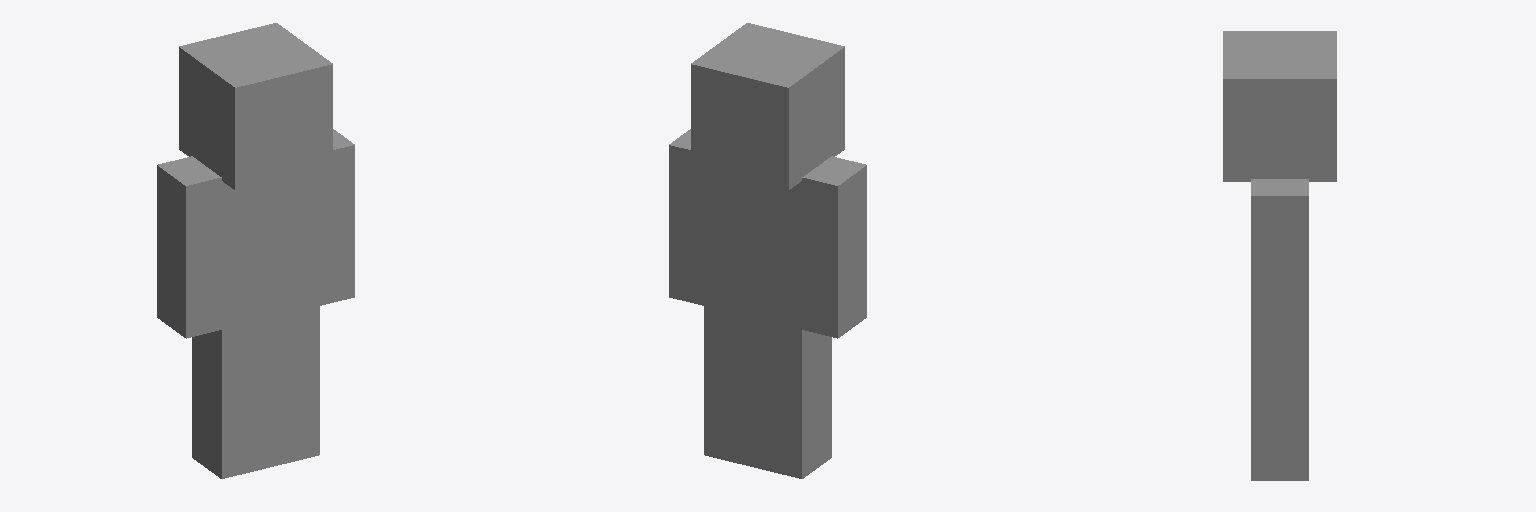
Rendered from playermodel_alex.obj.
The picture shows the model from 3 angles: view 1: azimuth 30°, elevation 25°; view 2: azimuth 150°, elevation 25°; view 3: azimuth 270°, elevation 25°; orthographic projection.
Parts seen in each view (by area): view 1: skull_layer_translucent_imageURL, torso_layer_translucent_imageURL, leg_left_layer_translucent_imageURL, arm_left_layer_translucent_imageURL, leg_right_layer_translucent_imageURL, arm_right_layer_translucent_imageURL; view 2: skull_layer_translucent_imageURL, torso_layer_translucent_imageURL, arm_left_layer_translucent_imageURL, leg_left_layer_translucent_imageURL, leg_right_layer_translucent_imageURL, arm_right_layer_translucent_imageURL; view 3: skull_layer_translucent_imageURL, arm_right_layer_translucent_imageURL, leg_right_layer_translucent_imageURL.
Part boxes in pixels (x1,y1,x2,y2): skull_layer_translucent_imageURL: (179, 23, 332, 190); torso_layer_translucent_imageURL: (222, 171, 319, 329); leg_left_layer_translucent_imageURL: (192, 319, 268, 478); arm_left_layer_translucent_imageURL: (157, 156, 224, 338); leg_right_layer_translucent_imageURL: (269, 306, 319, 467); arm_right_layer_translucent_imageURL: (317, 129, 354, 306); skull_layer_translucent_imageURL: (691, 23, 844, 190); torso_layer_translucent_imageURL: (704, 170, 798, 328); arm_left_layer_translucent_imageURL: (799, 156, 866, 338); leg_left_layer_translucent_imageURL: (752, 318, 831, 478); leg_right_layer_translucent_imageURL: (704, 305, 754, 466); arm_right_layer_translucent_imageURL: (669, 129, 706, 306); skull_layer_translucent_imageURL: (1223, 31, 1336, 181); arm_right_layer_translucent_imageURL: (1251, 179, 1308, 348); leg_right_layer_translucent_imageURL: (1251, 349, 1308, 480).
Bounding box in the file's own units: 0.8906 × 2.02 × 0.5156.